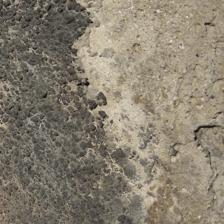Crack: (95, 60, 127, 145)
